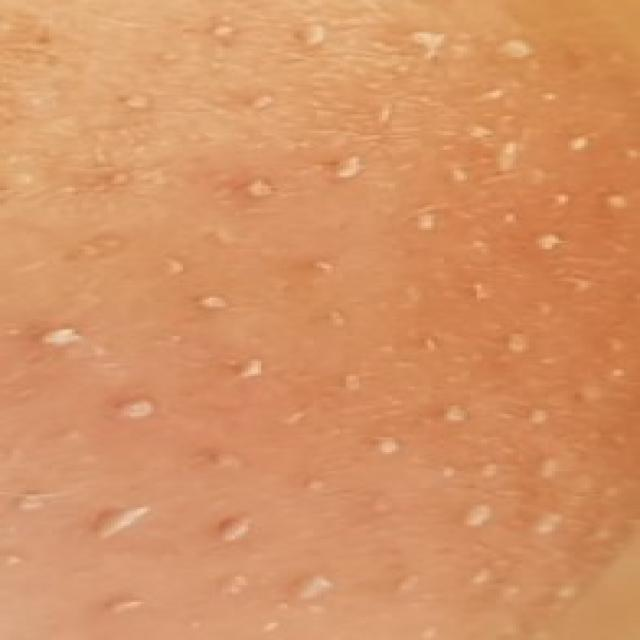whitehead: (0, 12, 639, 634)
